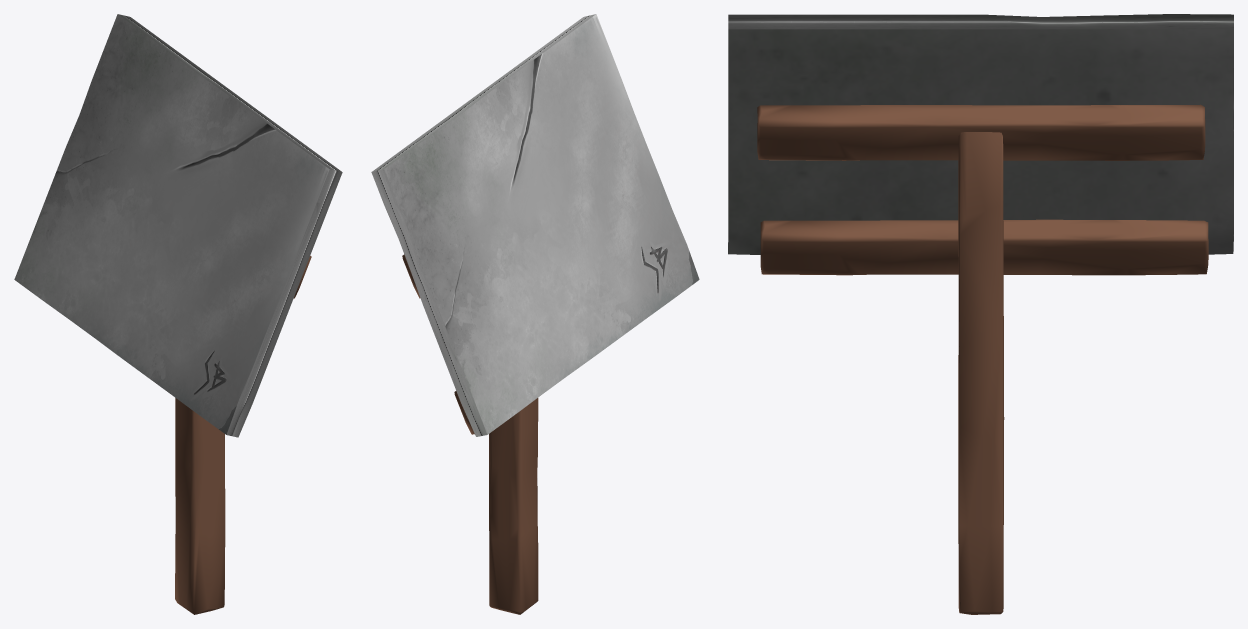
File: plaque.glb
3 views of the same model, side by side, from view 1: azimuth 30°, elevation 25°; view 2: azimuth 150°, elevation 25°; view 3: azimuth 270°, elevation 25° (orthographic). The views are drawn at different scales.
Visible parts, largest first — view 1: Cube.001, postLp; view 2: Cube.001, postLp; view 3: Cube.001, postLp.002, postLp.003, postLp.
Part boxes in pixels (x1,y1,x2,y2): Cube.001: [14, 14, 342, 437]; postLp: [175, 398, 225, 614]; Cube.001: [371, 14, 699, 436]; postLp: [489, 398, 538, 614]; Cube.001: [728, 14, 1233, 254]; postLp.002: [757, 104, 1205, 160]; postLp.003: [760, 219, 1208, 275]; postLp: [958, 132, 1004, 614].
Bounding box in the file's own units: 0.7619 × 3.16 × 2.39.
Materials: 2 (1 with a texture image).
